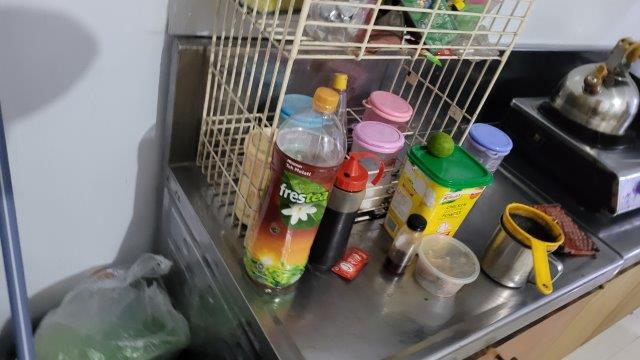botolplastik: (243, 86, 347, 292)
